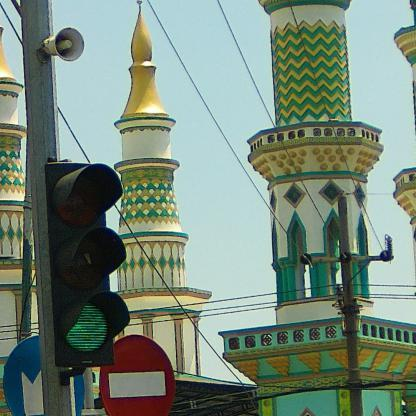green: (53, 162, 126, 368)
